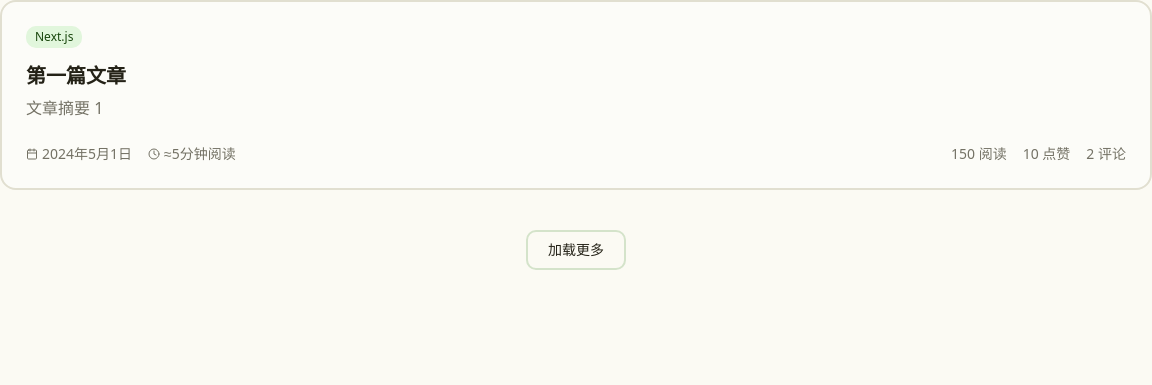
Test: ProfilePostsTab › 正常渲染列表并在加载更多时显示 loading 状态
Later steps or results of the test are not shown.
Expected: the link "第一篇文章" is shown, 26,62 -> 126,89
Expected: the text "文章摘要 1" is shown, 26,97 -> 103,119
Click the button "加载更多" at (576, 250), box 526,230 -> 626,270
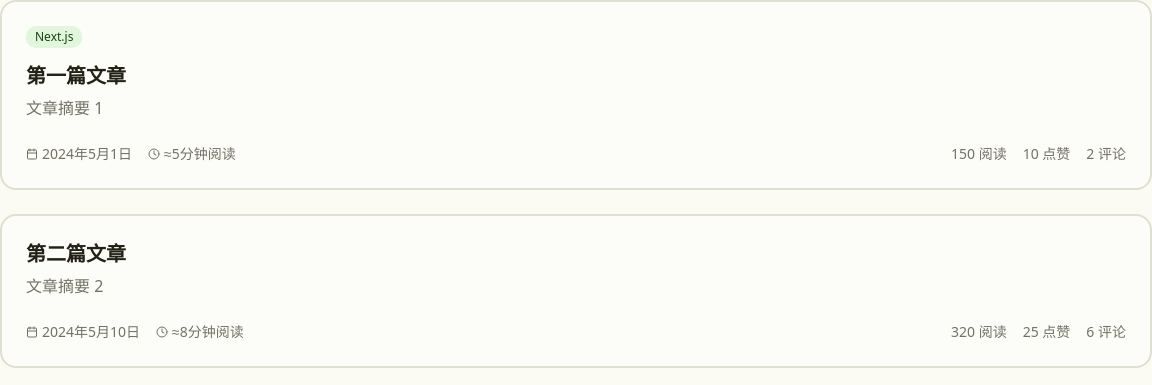
Result: the link "第二篇文章" is shown at 26,240 -> 126,267
